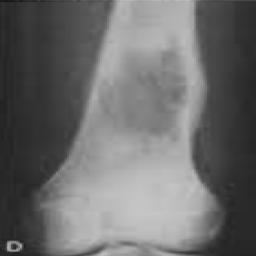cancer: (86, 34, 209, 145)
